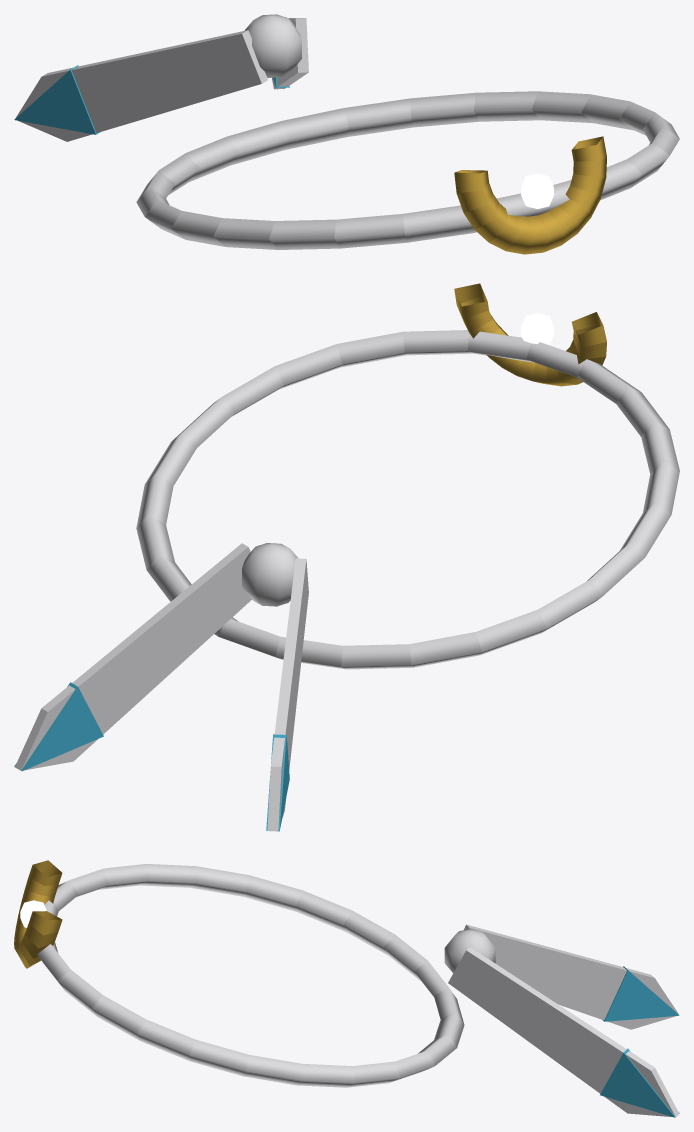
Rendered from rei_p1.glb.
The picture shows the model from 3 angles, top to bottom: view 1: azimuth 30°, elevation 25°; view 2: azimuth 150°, elevation 25°; view 3: azimuth 270°, elevation 25°; orthographic projection. The views are drawn at different scales.
Parts seen in each view (by area): view 1: p1_band_body, p1_bandCrest_body, p1_bandCrest_glow; view 2: p1_band_body, p1_bandCrest_body, p1_bandCrest_glow; view 3: p1_band_body, p1_bandCrest_body.
Part boxes in pixels (x1,y1,x2,y2): p1_band_body: [14, 14, 679, 249]; p1_bandCrest_body: [454, 136, 606, 254]; p1_bandCrest_glow: [521, 173, 553, 209]; p1_band_body: [14, 330, 679, 831]; p1_bandCrest_body: [454, 283, 606, 386]; p1_bandCrest_glow: [521, 313, 553, 345]; p1_band_body: [37, 864, 679, 1117]; p1_bandCrest_body: [14, 860, 62, 968].
Bounding box in the file's own units: 0.402 × 0.1794 × 0.5954.
